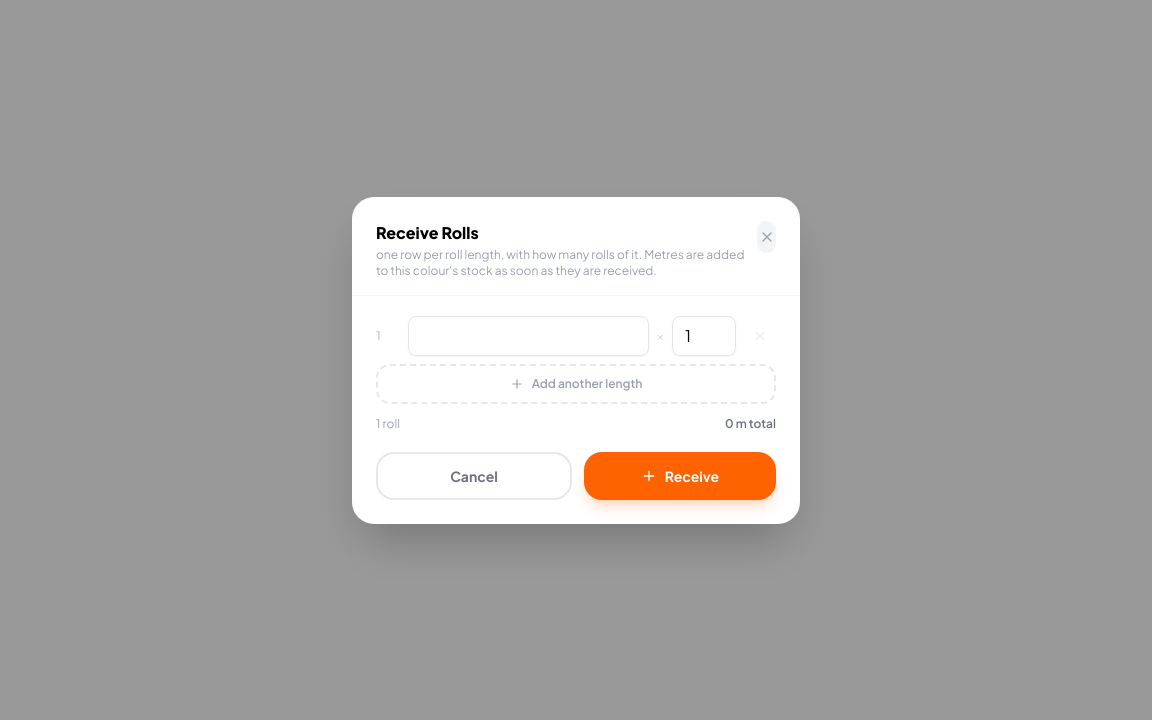
Test: ReceiveRollsDialog › shows the running total even for a single roll
The width and height of the screenshot is (1152, 720).
Type "250.5" into the number field named "Roll 1 metres". click: (528, 336)
box: [408, 316, 649, 356]
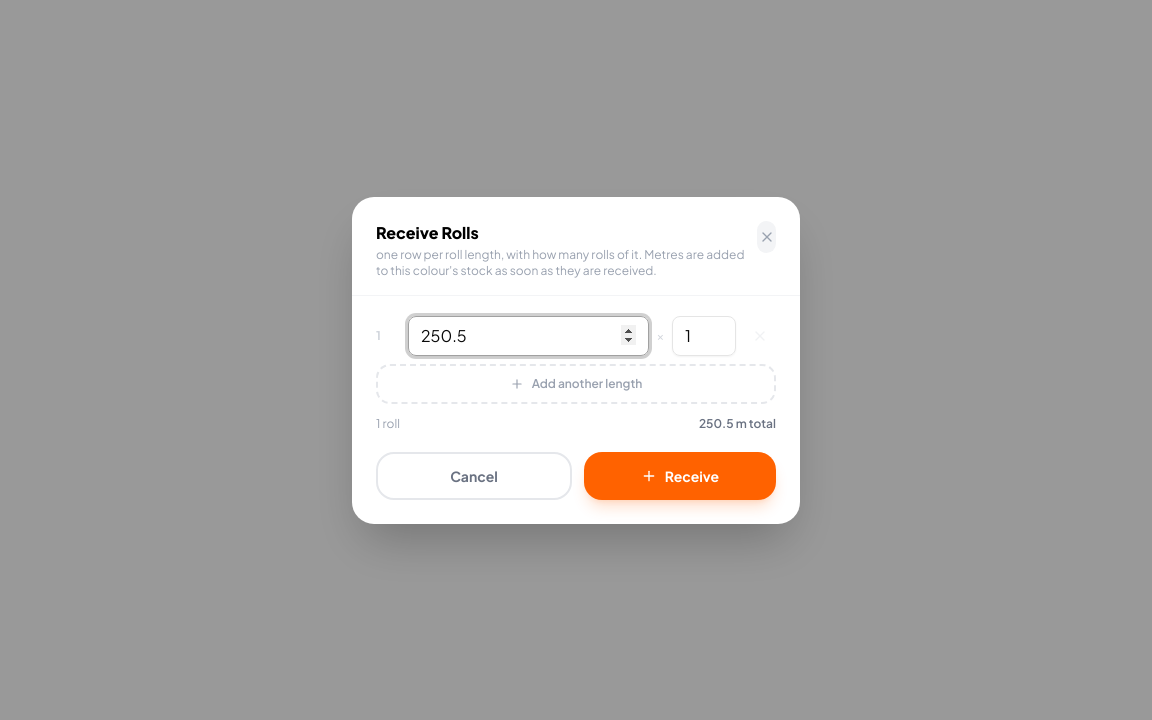
Expected: the text "1 roll" is shown, [376, 416, 400, 432]
Expected: the text "250.5 m total" is shown, [699, 416, 776, 432]
